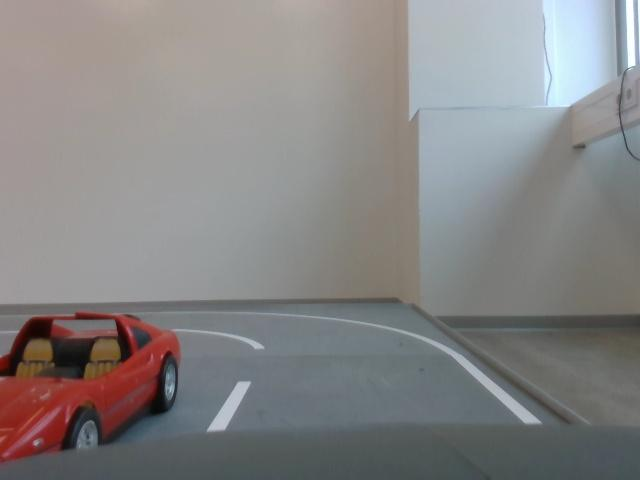car: (1, 291, 191, 480)
